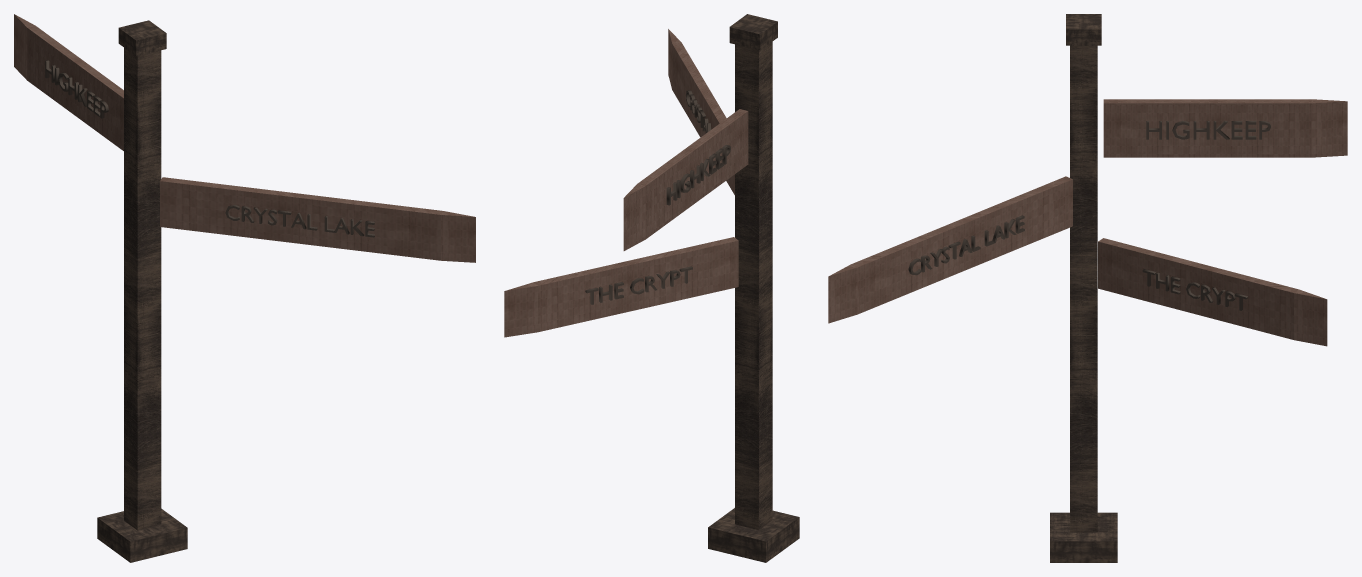
Rendered from prop_signpost_crossroads.glb.
The picture shows the model from 3 angles, left to right: view 1: azimuth 30°, elevation 25°; view 2: azimuth 150°, elevation 25°; view 3: azimuth 270°, elevation 25°; orthographic projection. The views are drawn at different scales.
Parts seen in each view (by area): view 1: prop_signpost_crossroads; view 2: prop_signpost_crossroads; view 3: prop_signpost_crossroads.
Part boxes in pixels (x1,y1,x2,y2): prop_signpost_crossroads: (14,14,475,562); prop_signpost_crossroads: (504,14,799,562); prop_signpost_crossroads: (828,14,1347,562).
Bounding box in the file's own units: 1.41 × 2.91 × 2.6.
3 materials, 2 textured.
